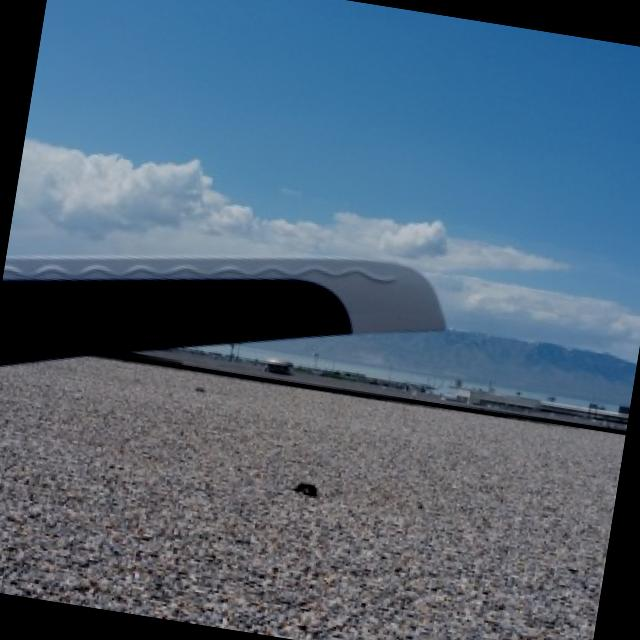healthy: (0, 254, 442, 361)
